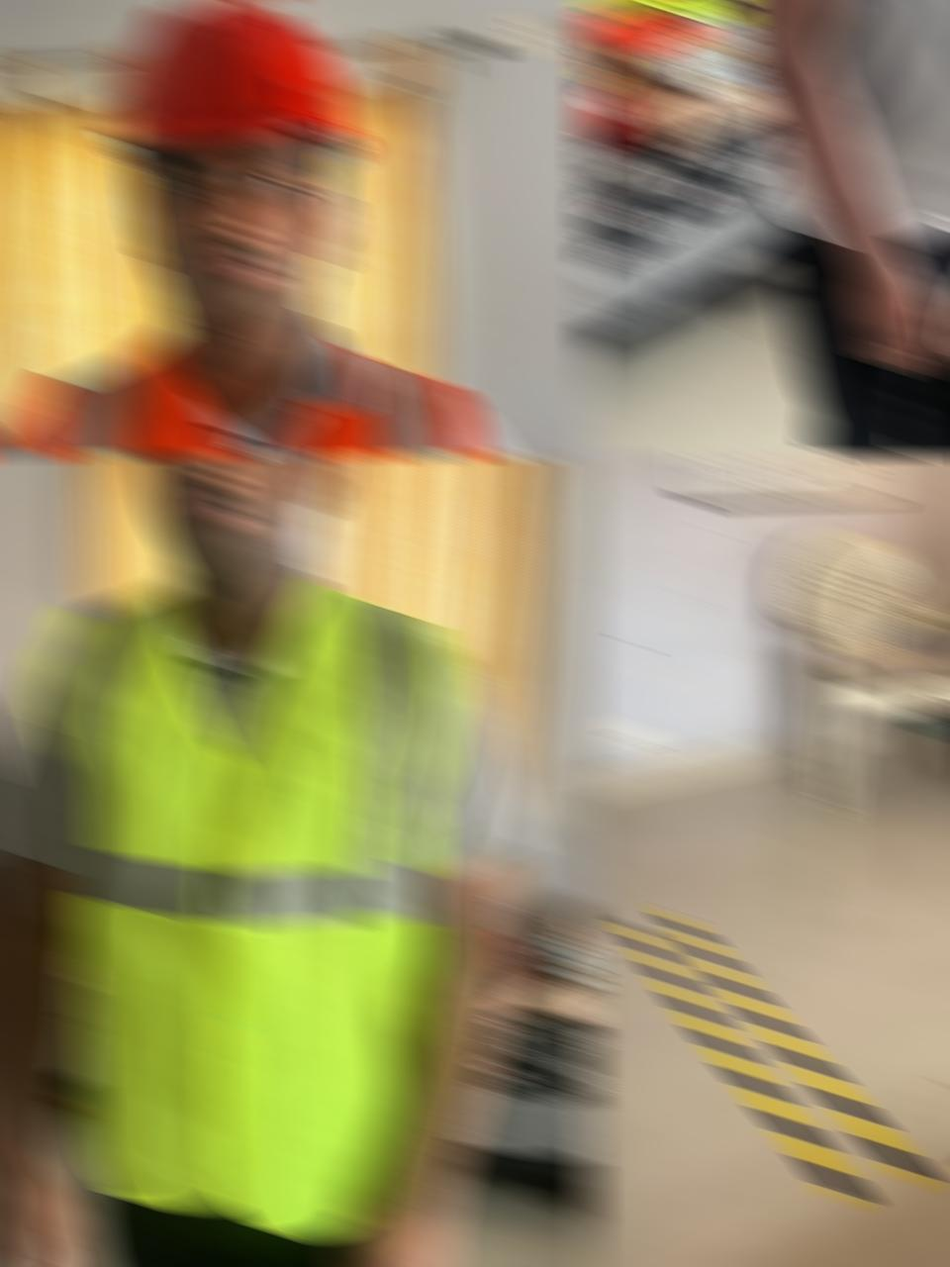BorderLine: (661, 908, 936, 1189), (616, 921, 868, 1206)
Helmet: (98, 0, 369, 169)
No_Helmet: (129, 453, 350, 603)
No_Vest: (706, 0, 950, 247)
Person: (0, 452, 545, 1267), (0, 0, 576, 457), (706, 0, 950, 457)
Vest: (30, 579, 464, 1242), (14, 325, 480, 458)
